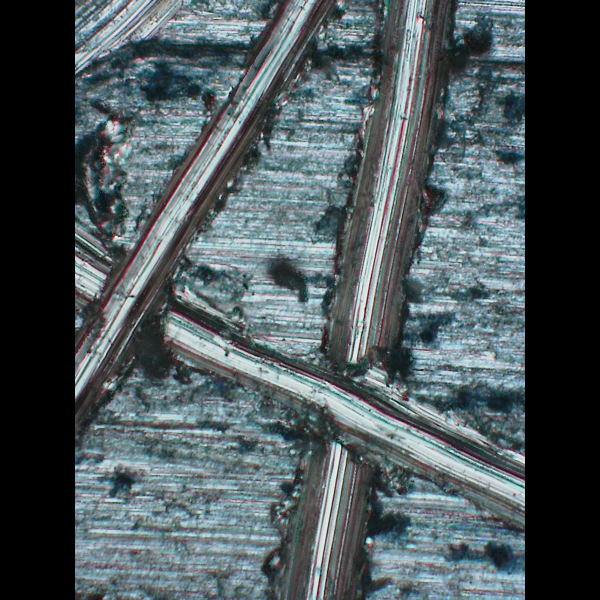d: (75, 207, 524, 542), (77, 0, 338, 445), (268, 0, 461, 595)
